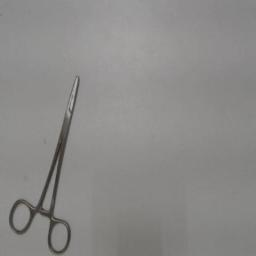Mayo Needle Holder: (6, 70, 82, 256)
